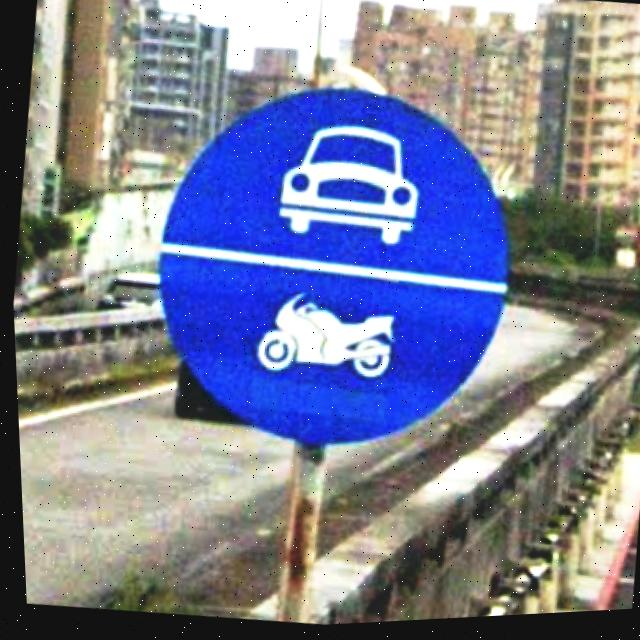carmotorcycle: (155, 92, 509, 450)
